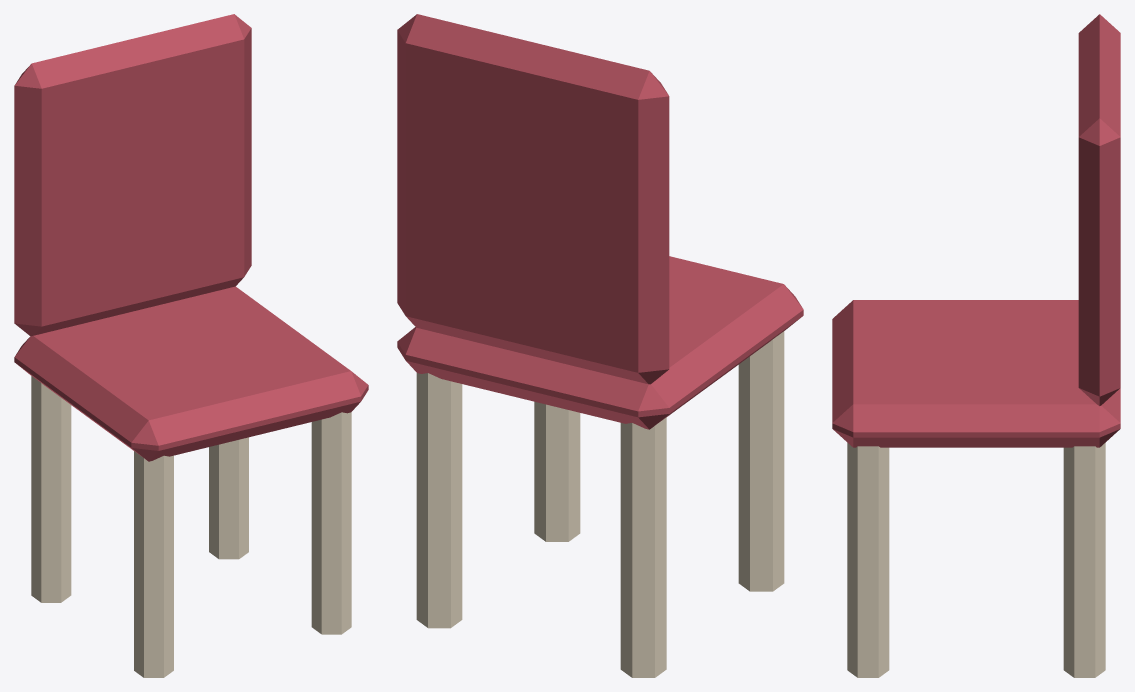
3 renders of one model, left to right at view 1: azimuth 30°, elevation 25°; view 2: azimuth 150°, elevation 25°; view 3: azimuth 270°, elevation 25°, orthographic. The views are drawn at different scales.
Parts seen in each view (by area): view 1: Backrest, Seat, Leg.002, Leg, Leg.001, Leg.003; view 2: Backrest, Seat, Leg.001, Leg.003, Leg, Leg.002; view 3: Seat, Backrest, Leg.002, Leg.003.
Boxes of the visible parts, <box> form: Backrest: <box>14,14,251,336</box>; Seat: <box>14,286,368,461</box>; Leg.002: <box>311,412,351,634</box>; Leg: <box>134,451,173,677</box>; Leg.001: <box>31,376,71,602</box>; Leg.003: <box>209,437,248,559</box>; Backrest: <box>397,14,669,384</box>; Seat: <box>397,256,803,429</box>; Leg.001: <box>620,417,666,677</box>; Leg.003: <box>416,373,462,628</box>; Leg: <box>738,331,784,591</box>; Leg.002: <box>534,401,580,541</box>; Seat: <box>832,300,1120,447</box>; Backrest: <box>1078,14,1120,405</box>; Leg.002: <box>847,443,889,677</box>; Leg.003: <box>1063,443,1105,677</box>.
Size of the model in its own units: 0.48 by 1.02 by 0.48.
1 material, 1 textured.
